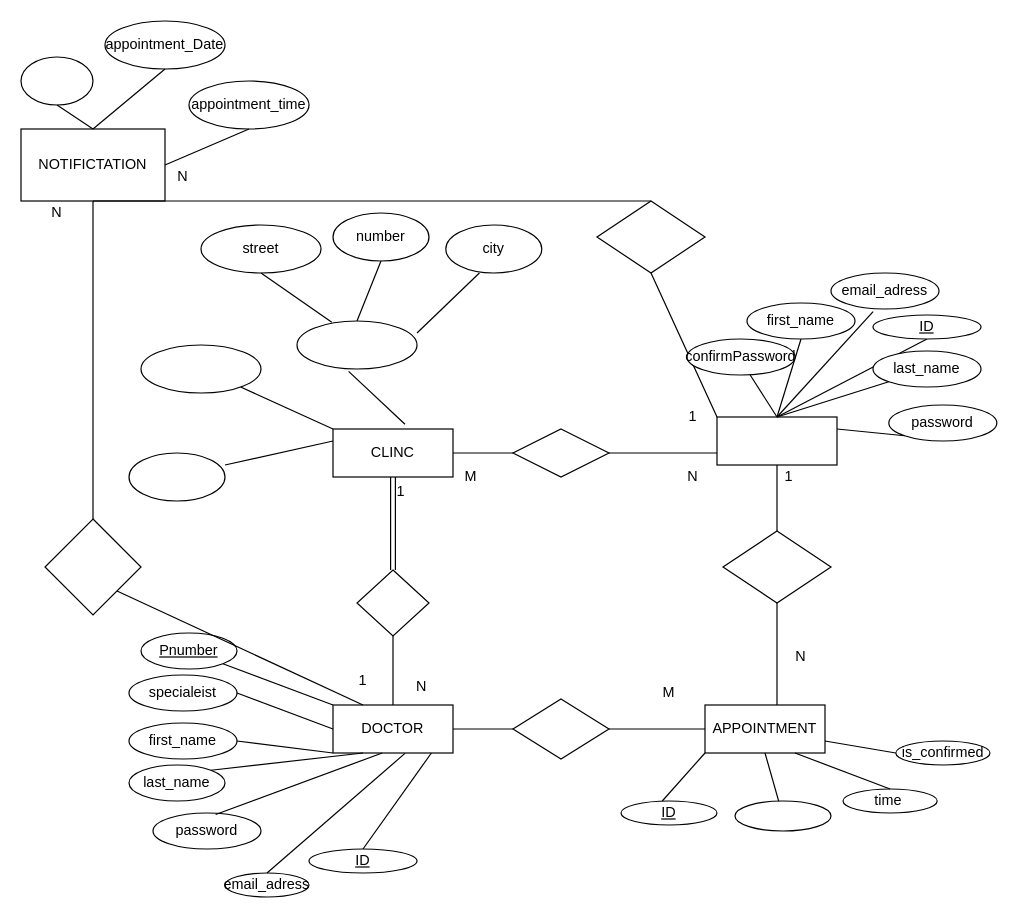
The diagram is 1019 pixels wide and 918 high, and some of its shapes have lost their labels. Each missing label, with the centre of its shape:
"adress" belongs at point (356, 344).
"CONFIRM" belongs at point (560, 728).
"date" belongs at point (782, 815).
"HAS" belongs at point (392, 602).
"name" belongs at point (176, 476).
"PATIENT" belongs at point (776, 440).
"phone_number" belongs at point (200, 368).
"RECIEVE" belongs at point (650, 236).
"REGISTEr" belongs at point (560, 452).
"REQUEST" belongs at point (776, 566).
"SEND" belongs at point (92, 566).
"Text" belongs at point (56, 80).
